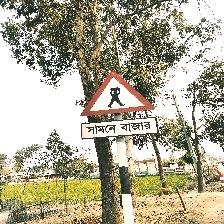Market-in-front: (80, 70, 158, 141)
